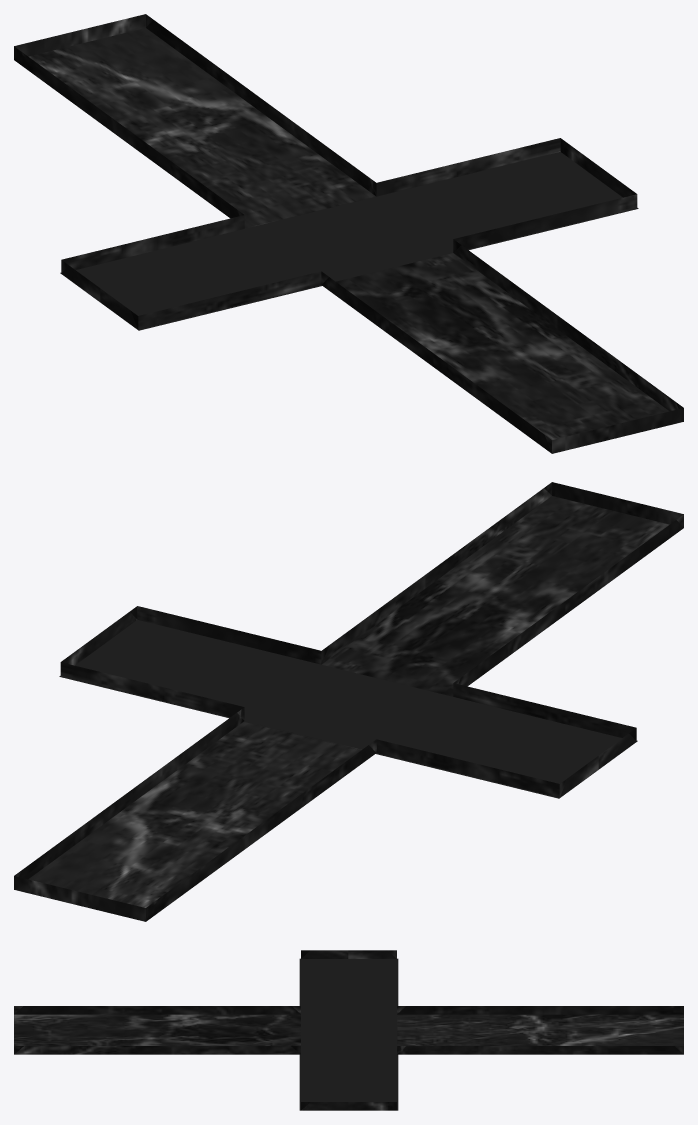
File: Nav-Mesh-Museum.fbx
The picture shows the model from 3 angles, top to bottom: view 1: azimuth 30°, elevation 25°; view 2: azimuth 150°, elevation 25°; view 3: azimuth 270°, elevation 25°; orthographic projection. The views are drawn at different scales.
Visible parts, largest first — view 1: hall_low_Cube.001; view 2: hall_low_Cube.001; view 3: hall_low_Cube.001.
Part boxes in pixels (x1,y1,x2,y2): hall_low_Cube.001: (14,14,683,453); hall_low_Cube.001: (14,482,683,921); hall_low_Cube.001: (14,950,683,1110).
Size of the model in its own units: 1502 by 39.82 by 2800.
